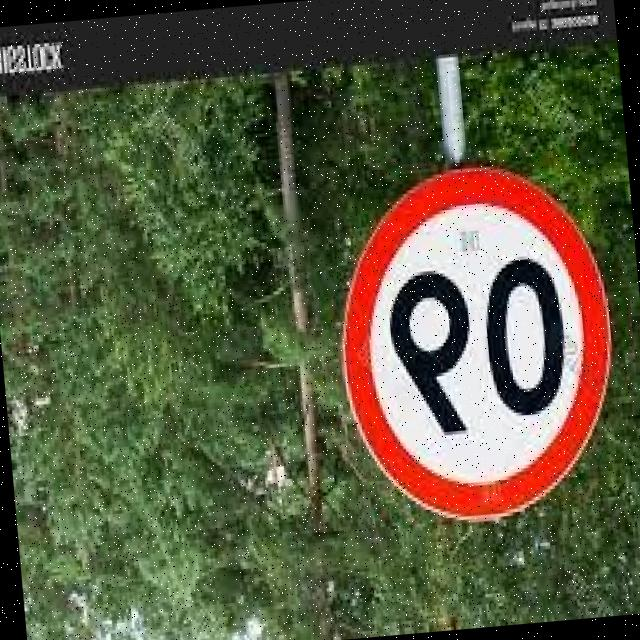speed_limit_60: (326, 153, 628, 542)
